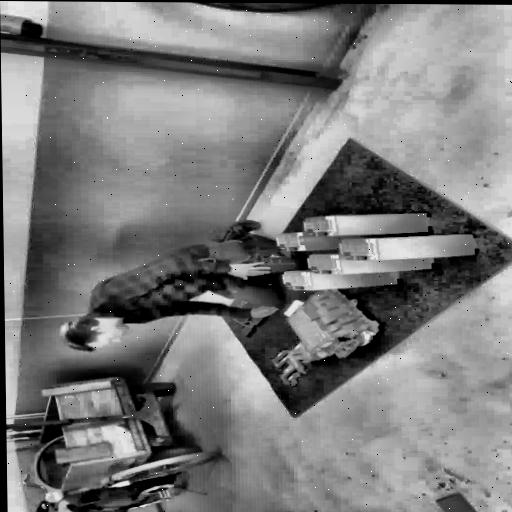battery_module: (341, 233, 477, 259), (303, 212, 427, 235), (305, 252, 432, 273), (283, 268, 399, 289), (275, 231, 303, 250)
bms_unit: (283, 286, 382, 356)
busbar: (265, 348, 313, 386)
